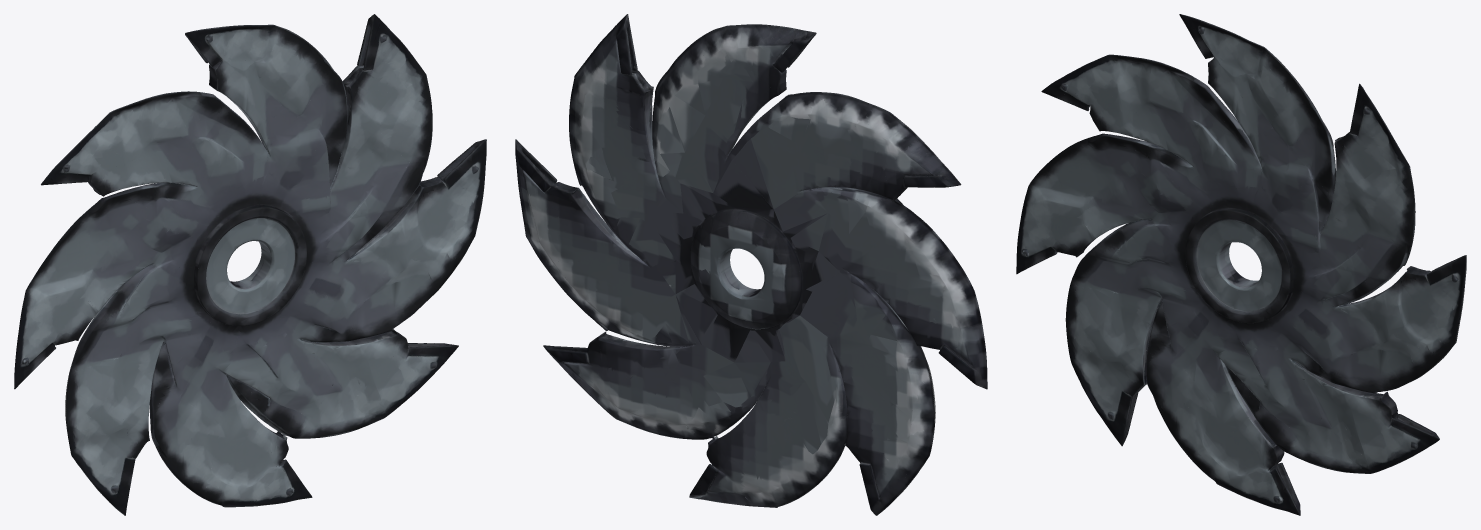
The model's file is saw_blade.glb.
3 views of the same model, side by side, from view 1: azimuth 30°, elevation 25°; view 2: azimuth 150°, elevation 25°; view 3: azimuth 330°, elevation 25° (orthographic). The views are drawn at different scales.
Visible parts, largest first — view 1: mesh_node; view 2: mesh_node; view 3: mesh_node.
Boxes of the visible parts, bbox=[...] form: mesh_node: bbox=[14, 14, 486, 515]; mesh_node: bbox=[515, 14, 987, 515]; mesh_node: bbox=[1016, 14, 1466, 515].
Bounding box in the file's own units: 1.89 × 1.9 × 0.0992.
1 material, 1 textured.
